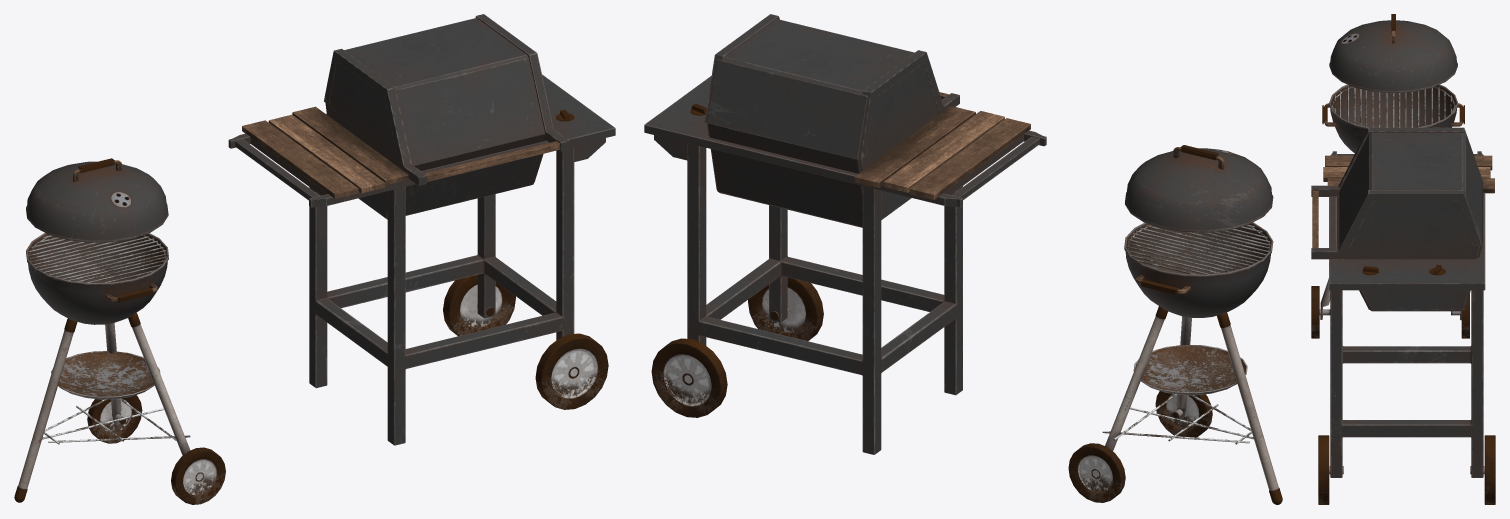
Rendered from bbq_grills.glb.
3 renders of one model, left to right at view 1: azimuth 30°, elevation 25°; view 2: azimuth 150°, elevation 25°; view 3: azimuth 270°, elevation 25°, orthographic. The views are drawn at different scales.
Parts seen in each view (by area): view 1: pCube17, pCube9, Lid, polySurface1, pCube11, pCube10, pCube12, pCylinder40, polySurface7, pCube20, pCylinder41, pCube24 (+5 smaller); view 2: pCube17, pCube9, Lid, pCube11, polySurface1, pCube12, pCylinder41, polySurface7, pCube10, pCube20, pCylinder40, pCube24 (+5 smaller); view 3: pCube9, pCube17, Lid, pCube12, polySurface1, pCube10, pCube11, pCylinder40, pCylinder41, pCylinder8, pCube20, pCube24 (+2 smaller).
Boxes of the visible parts, x1,y1,x2,y2 form: pCube17: (309, 146, 574, 445); pCube9: (329, 18, 544, 165); Lid: (26, 161, 168, 242); polySurface1: (26, 233, 168, 324); pCube11: (325, 103, 545, 219); pCube10: (324, 14, 568, 185); pCube12: (228, 74, 615, 207); pCylinder40: (535, 333, 608, 409); polySurface7: (51, 351, 160, 399); pCube20: (242, 120, 358, 198); pCylinder41: (443, 275, 515, 336); pCube24: (268, 114, 385, 193); pCube17: (687, 143, 962, 454); pCube9: (707, 19, 938, 159); Lid: (1125, 148, 1273, 232); pCube11: (707, 112, 938, 227); polySurface1: (1124, 222, 1273, 317); pCube12: (644, 76, 1046, 207); pCylinder41: (651, 338, 727, 417); polySurface7: (1133, 345, 1247, 395); pCube10: (704, 14, 959, 160); pCube20: (910, 118, 1030, 199); pCylinder40: (748, 277, 823, 340); pCube24: (883, 111, 1004, 192); pCube9: (1339, 132, 1482, 253); pCube17: (1330, 197, 1483, 477); Lid: (1329, 20, 1457, 93); pCube12: (1329, 151, 1485, 290); polySurface1: (1329, 84, 1458, 153); pCube10: (1311, 127, 1482, 259); pCube11: (1344, 181, 1482, 311); pCylinder40: (1318, 435, 1343, 504); pCylinder41: (1470, 435, 1495, 504); pCylinder8: (1311, 286, 1330, 338); pCube20: (1325, 155, 1492, 170); pCube24: (1323, 167, 1490, 181).
Size of the model in its own units: 23.76 by 13.64 by 7.51.
Materials: 6 (6 with a texture image).
